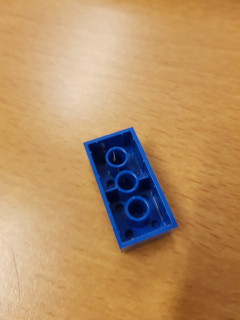2x4 blue: (80, 124, 181, 254)
